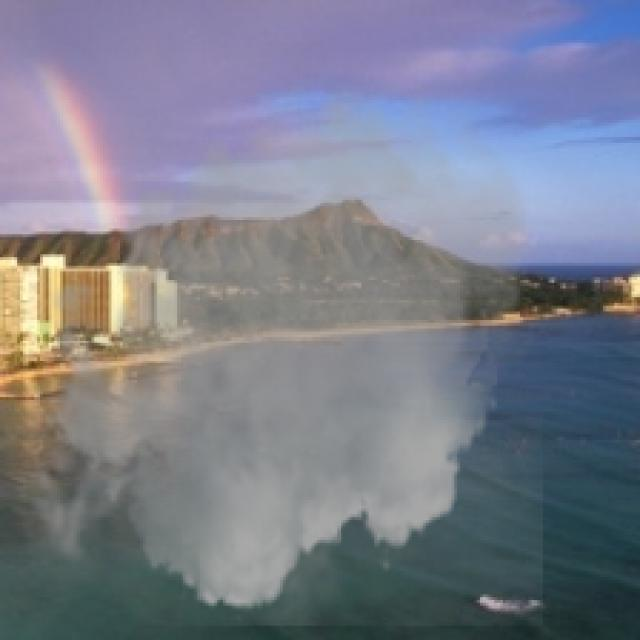smoke: (14, 63, 543, 626)
